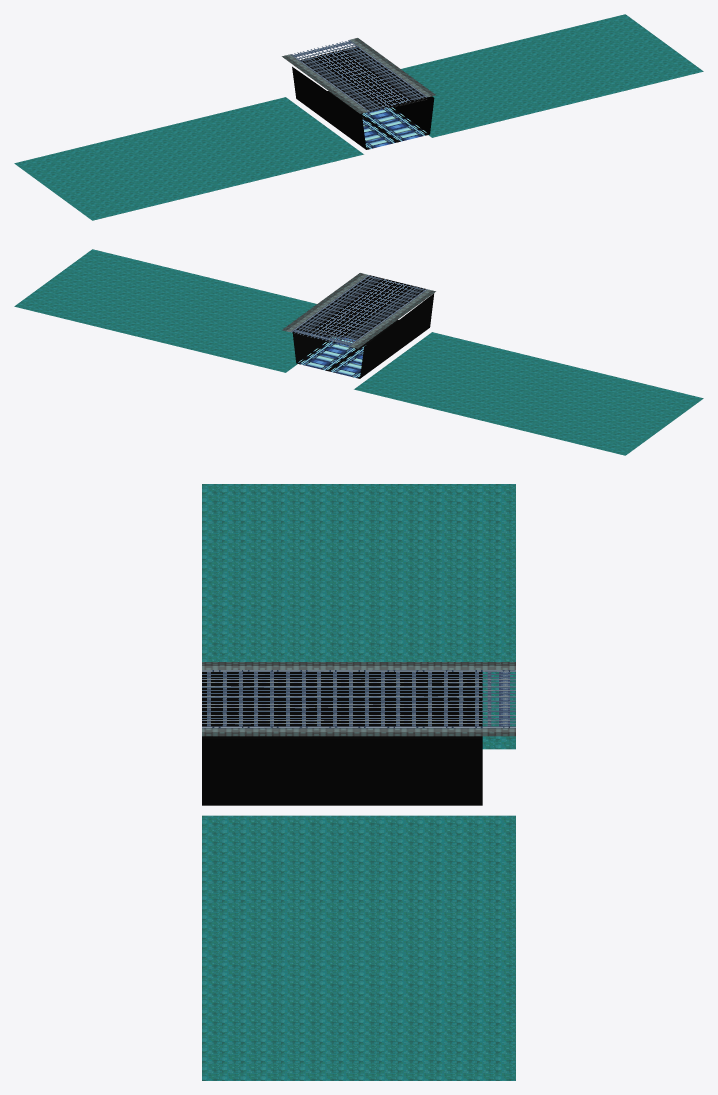
3 views of the same model, one above another, from view 1: azimuth 30°, elevation 25°; view 2: azimuth 150°, elevation 25°; view 3: azimuth 270°, elevation 25° (orthographic). The views are drawn at different scales.
Parts seen in each view (by area): view 1: polygon0, polygon2, polygon3, polygon6, polygon5, polygon4; view 2: polygon0, polygon2, polygon3, polygon6, polygon5, polygon4; view 3: polygon0, polygon2, polygon3, polygon5, polygon6, polygon4.
Part boxes in pixels (x1,y1,x2,y2): polygon0: (14,14,703,220); polygon2: (292,66,434,149); polygon3: (290,40,427,111); polygon6: (282,38,435,113); polygon5: (286,39,431,112); polygon4: (294,41,354,59); polygon0: (14,249,703,455); polygon2: (292,293,434,378); polygon3: (290,275,427,346); polygon6: (282,273,435,348); polygon5: (286,274,431,347); polygon4: (294,327,354,345); polygon0: (202,484,515,1080); polygon2: (202,736,482,805); polygon3: (202,670,515,728); polygon5: (202,666,515,732); polygon6: (202,662,515,736); polygon4: (482,672,515,726).
Size of the model in its own units: 9 by 0.5859 by 2.
